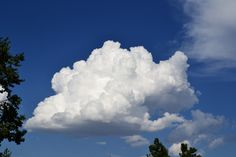Cumulus: (23, 30, 196, 141)
